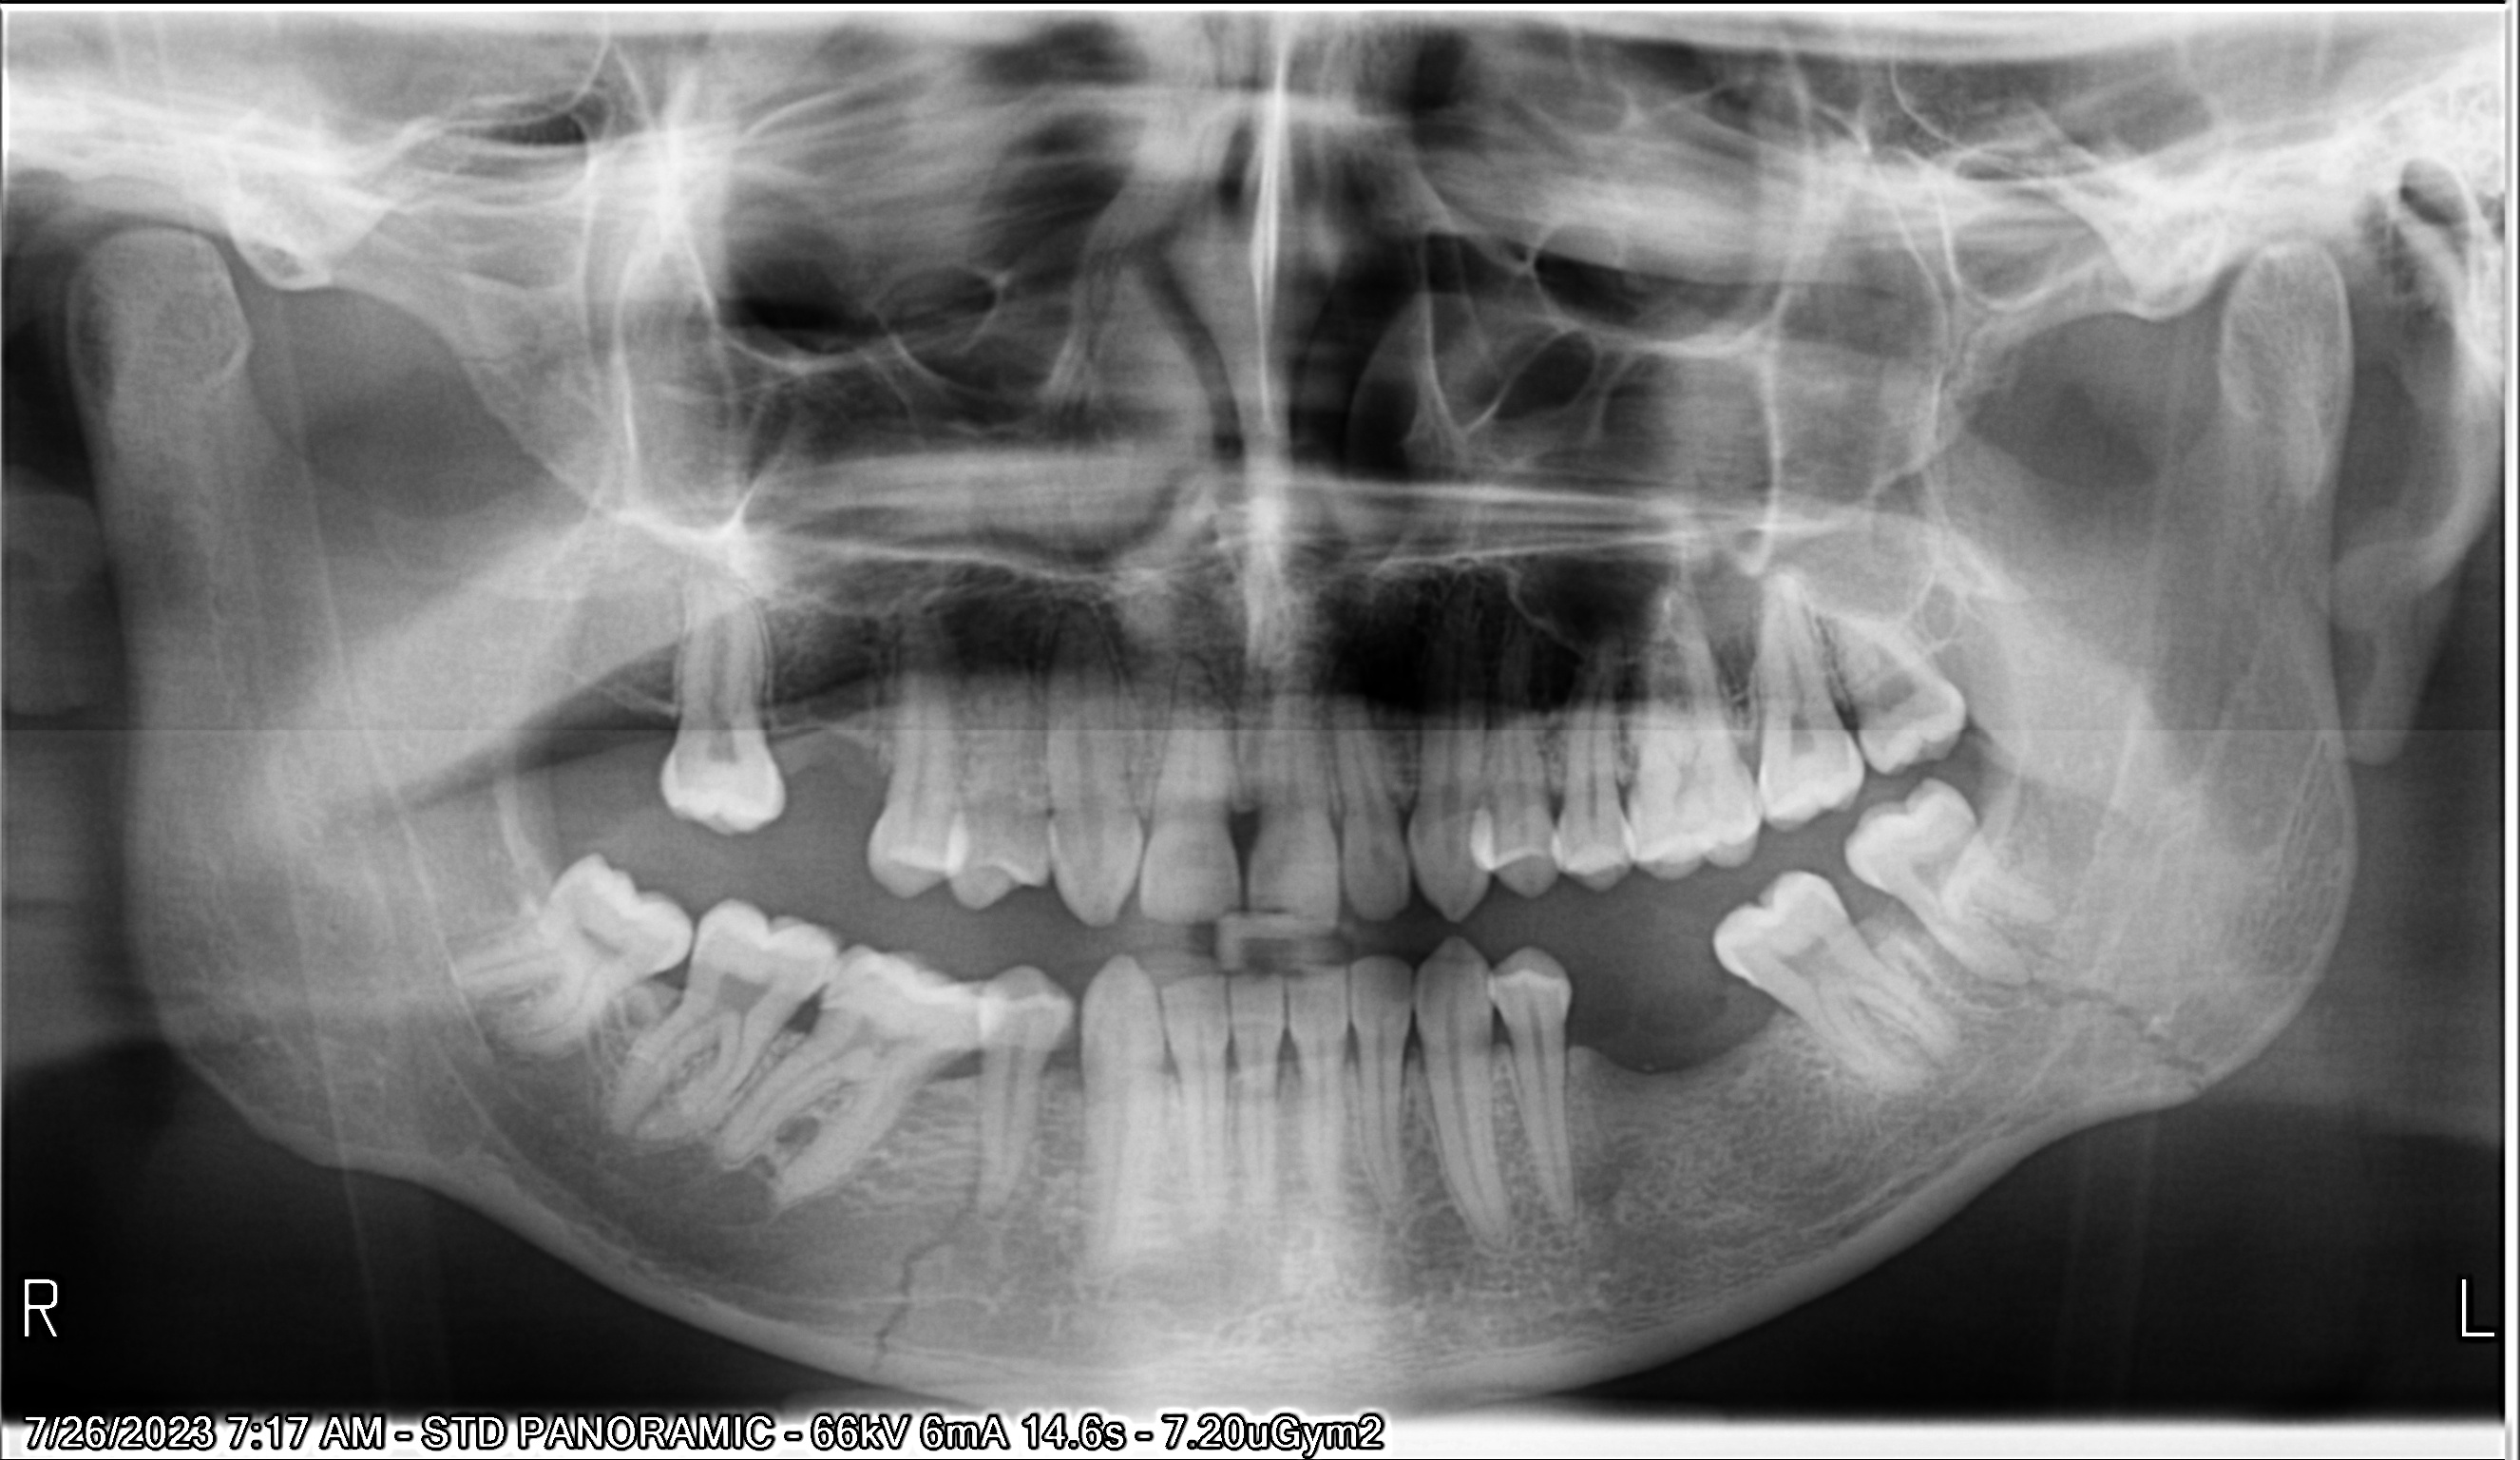API: (2013, 921, 2063, 1024), (967, 1166, 1033, 1222)
